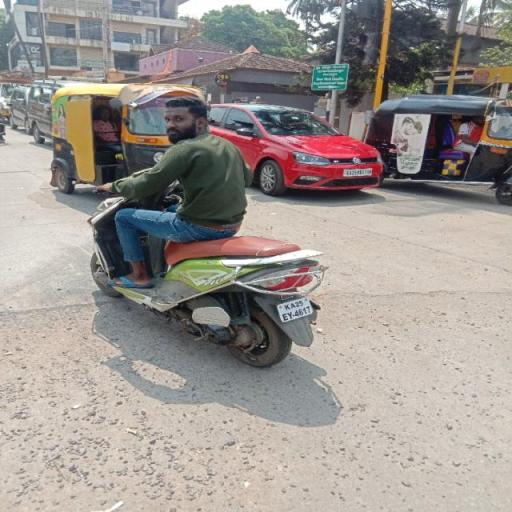bike: (82, 98, 334, 367)
numberplate: (274, 292, 318, 325)
withouthelmet: (166, 98, 208, 142)
